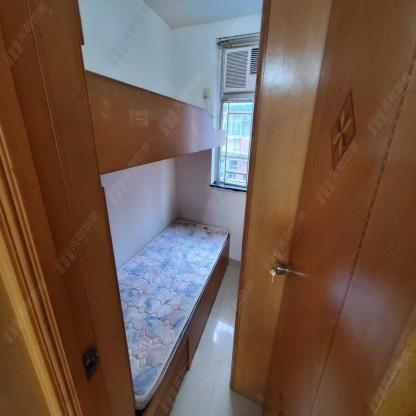AC: (222, 43, 261, 95)
Bed: (115, 214, 229, 407)
Bed Frame: (82, 68, 230, 416)
Door: (229, 0, 416, 416)
